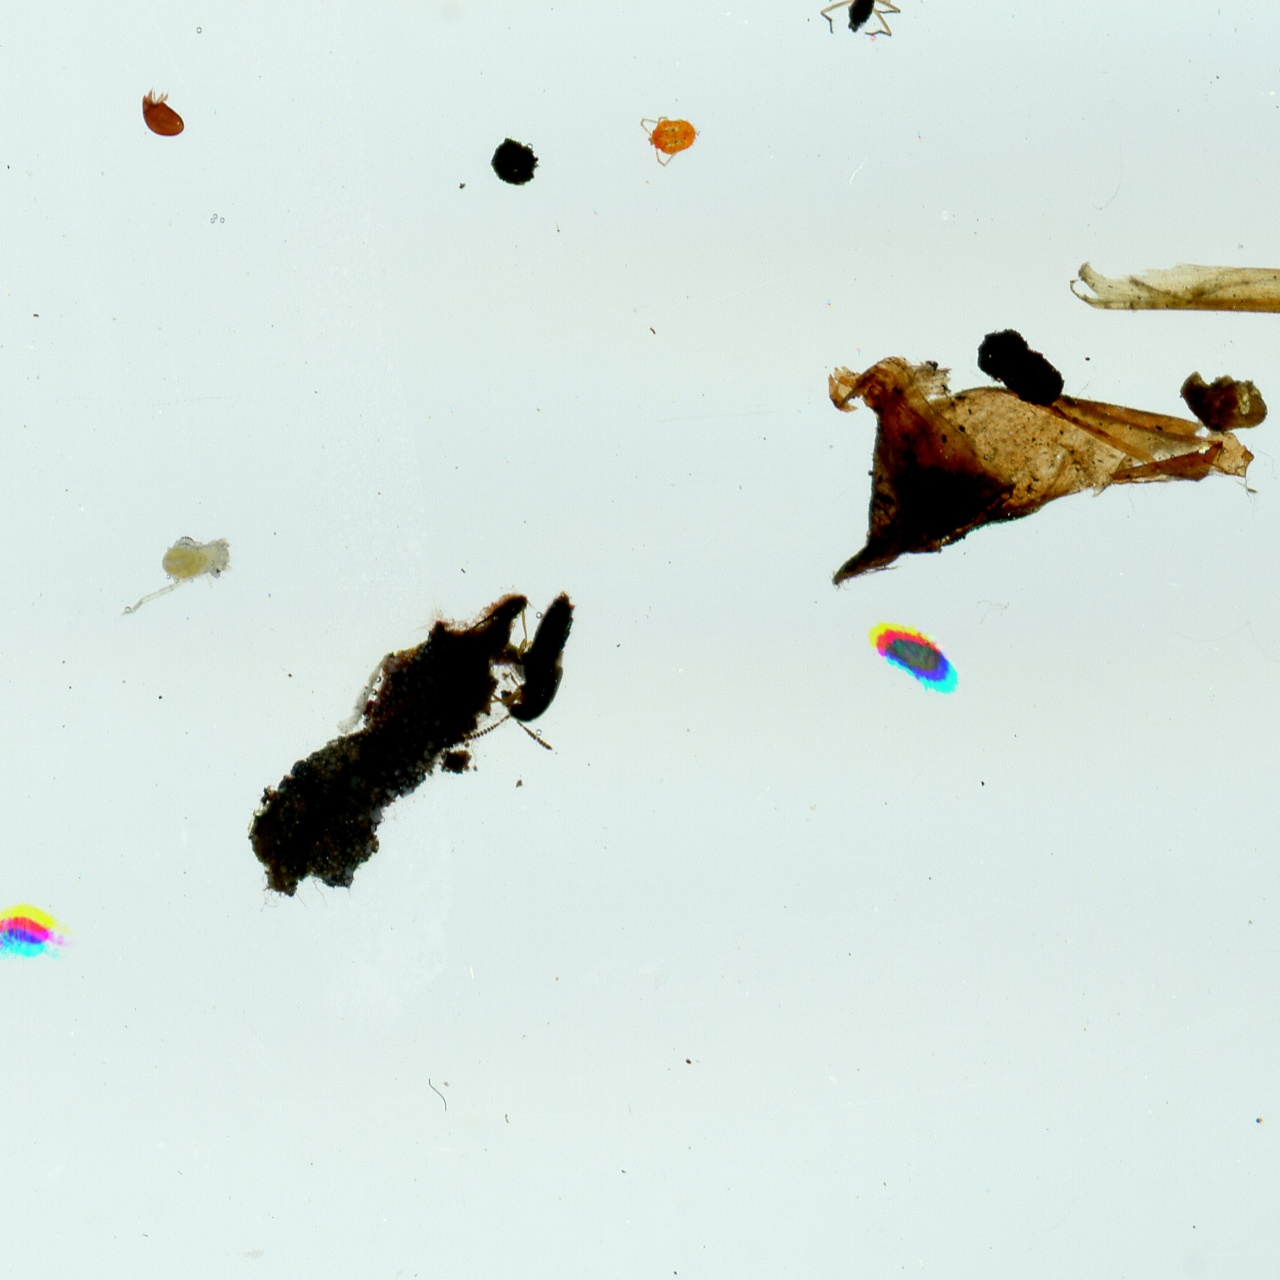arthropod: (449, 566, 614, 774), (777, 0, 994, 45), (0, 898, 81, 1002), (858, 617, 959, 699), (635, 113, 706, 170), (131, 86, 195, 145)
